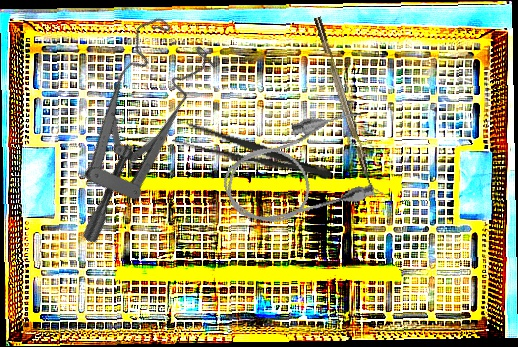Cannula: (212, 102, 386, 239)
Chopper: (313, 13, 385, 199)
Dressing Forceps: (171, 118, 335, 188)
Speculum: (5, 5, 249, 247)
